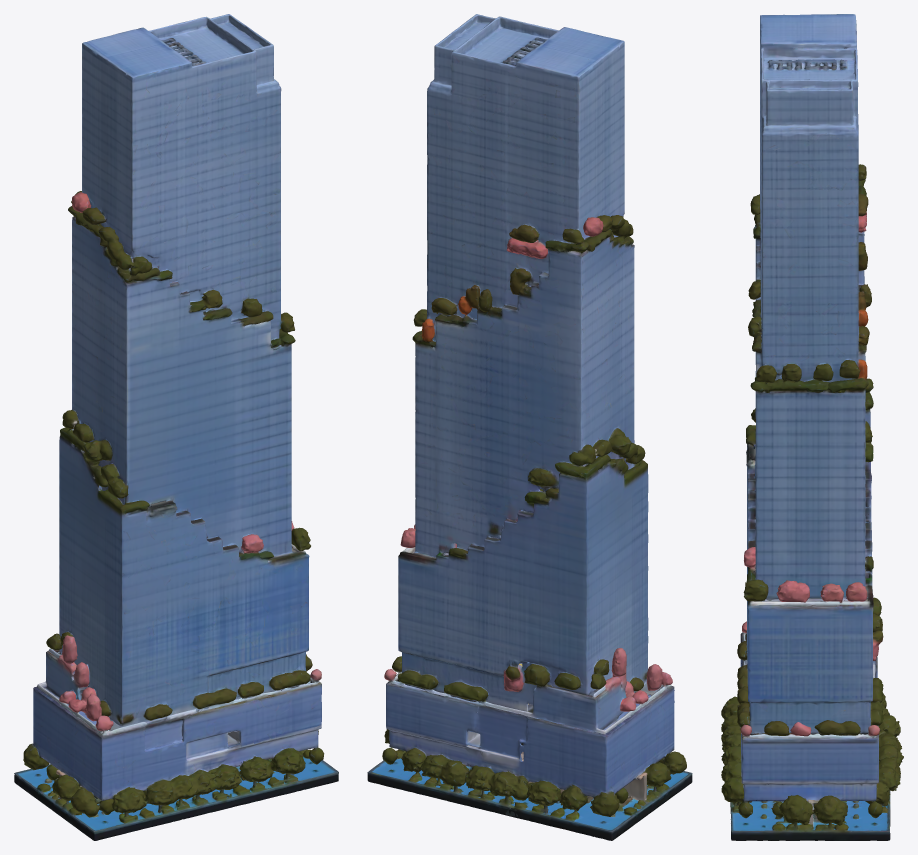
Rendered from spiral_official.glb.
3 views of the same model, side by side, from view 1: azimuth 30°, elevation 25°; view 2: azimuth 150°, elevation 25°; view 3: azimuth 270°, elevation 25° (orthographic).
Visible parts, largest first — view 1: world; view 2: world; view 3: world.
Boxes of the visible parts, bbox=[...] form: world: bbox=[14, 14, 338, 840]; world: bbox=[367, 14, 692, 840]; world: bbox=[721, 14, 903, 840].
Bounding box in the file's own units: 0.3673 × 0.9895 × 0.2234.
Materials: 1 (1 with a texture image).
